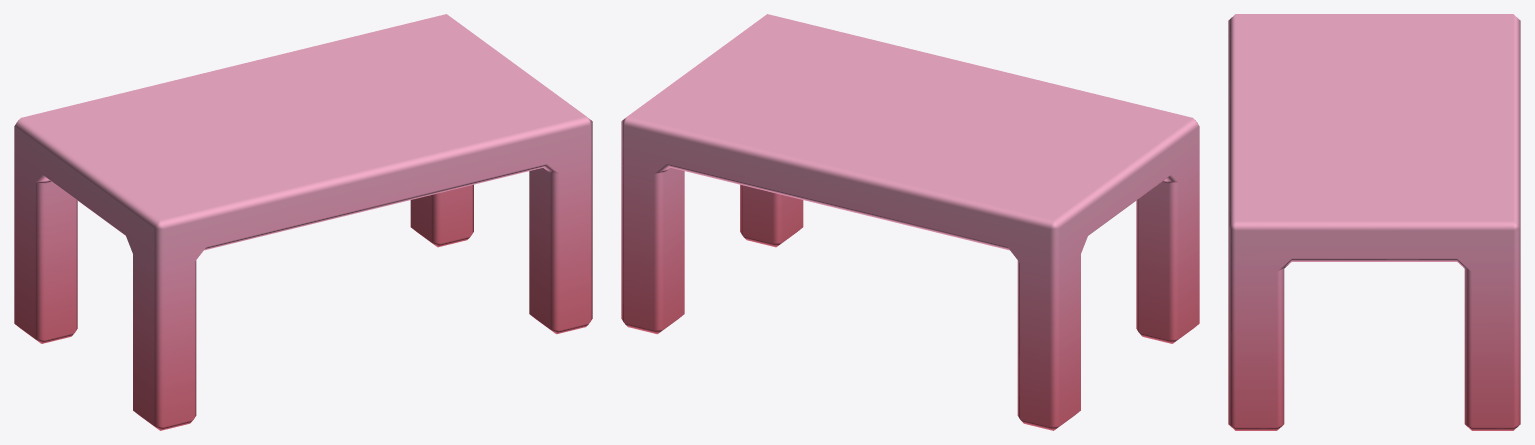
Rendered from Table.fbx.
The picture shows the model from 3 angles, left to right: view 1: azimuth 30°, elevation 25°; view 2: azimuth 150°, elevation 25°; view 3: azimuth 270°, elevation 25°; orthographic projection.
Visible parts, largest first — view 1: Table; view 2: Table; view 3: Table.
Part boxes in pixels (x1,y1,x2,y2): Table: [14, 14, 592, 430]; Table: [621, 14, 1199, 430]; Table: [1228, 14, 1520, 430].
Size of the model in its own units: 203 by 93.48 by 118.
